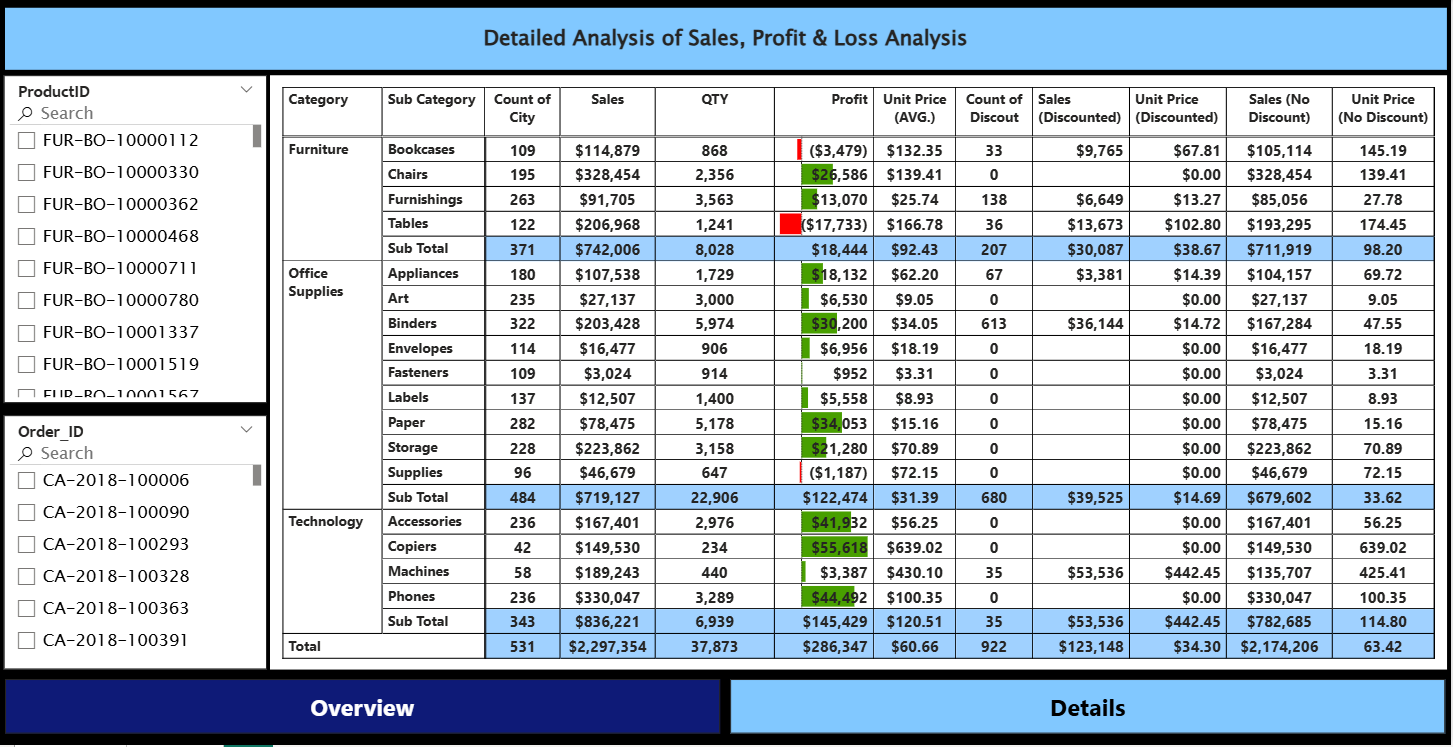

This screenshot's page, from the dashboard's own definition file:
{"tool":"powerbi","page":{"name":"Details","canvas":[1402,721],"ordinal":1},"visuals":[{"type":"pivotTable","fields":{"Rows":["SuperStore.Category","SuperStore.Sub_Category"],"Values":["Count(SuperStore.City)","Sum(SuperStore.Sales)","Sum(SuperStore.Quantity)","Sum(SuperStore.Profit)","SuperStore.avgprice","Sum(SuperStore.Discount)","SuperStore.SalesonDiscount","SuperStore.avgpriceONDISCOUNT","SuperStore.SaleswithoutDiscount","SuperStore.avgpriceWITHOUTDISCOUNT"]},"box":[261.1,73.9,1137.3,574.4],"z":0},{"type":"slicer","fields":{"Values":["SuperStore.ProductID"]},"box":[3.8,73.9,254.7,317.1],"z":1000},{"type":"slicer","fields":{"Values":["SuperStore.Order_ID"]},"box":[3.8,402.5,254.7,245.8],"z":2000},{"type":"card","fields":{"Values":["Measure Table.DisplayBAR"]},"box":[5.1,8.9,1393.3,59.9],"z":3000},{"type":"pageNavigator","box":[4.8,657.2,1393,53.2],"z":4000}]}

Visuals, with their boxes in screenshot pixels (x1, y1, x2, y2), scaled from the page's 1402x721 canvas onto the 1453x747 screenshot:
pivotTable - SuperStore.Category x SuperStore.Sub_Category: {"left": 271, "top": 77, "right": 1449, "bottom": 672}
slicer - SuperStore.ProductID: {"left": 4, "top": 77, "right": 268, "bottom": 405}
slicer - SuperStore.Order_ID: {"left": 4, "top": 417, "right": 268, "bottom": 672}
card - Measure Table.DisplayBAR: {"left": 5, "top": 9, "right": 1449, "bottom": 71}
pageNavigator: {"left": 5, "top": 681, "right": 1449, "bottom": 736}
